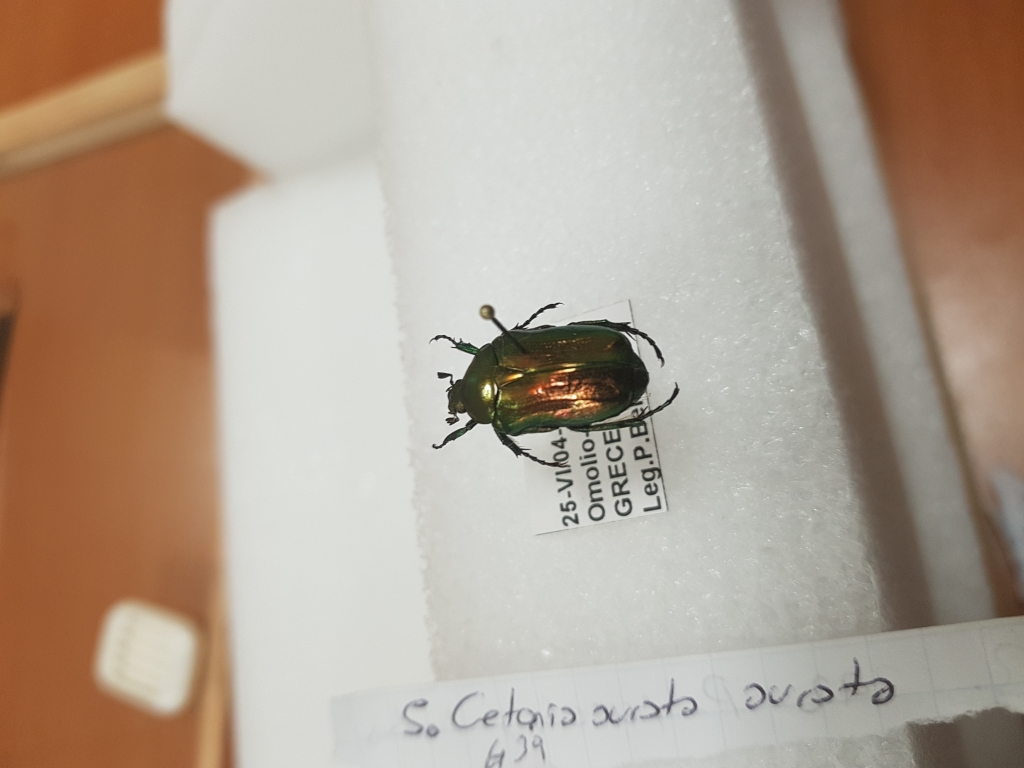Cetonia_aurata: (430, 300, 686, 472)
